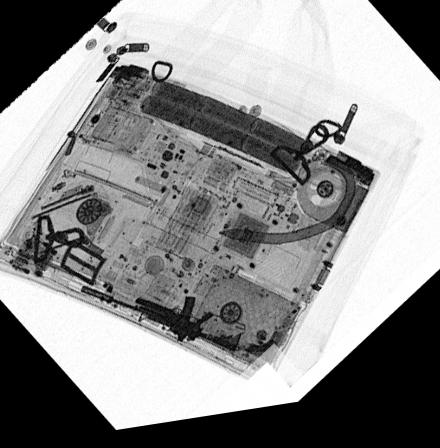Gun: (80, 286, 243, 360)
